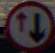Two way: (5, 1, 47, 42)
